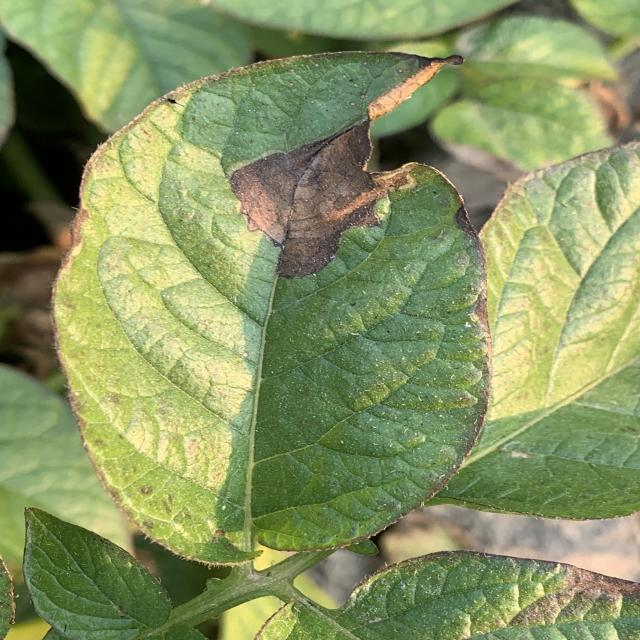lateblight: (230, 121, 412, 278)
